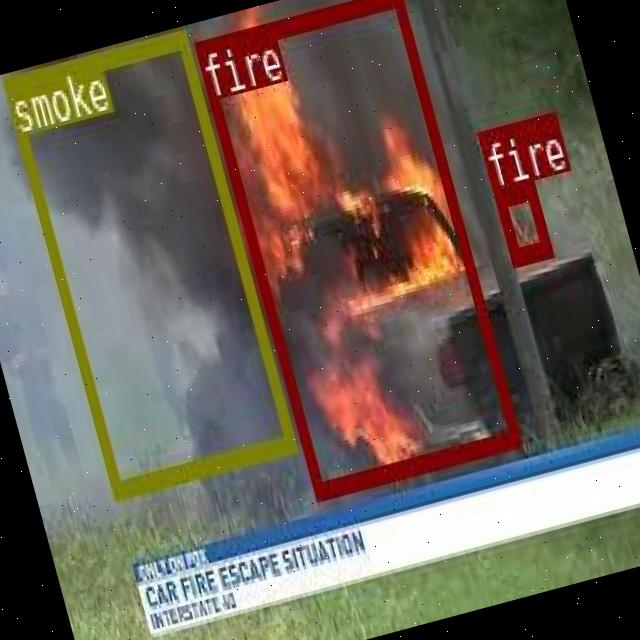fire: (191, 0, 518, 496), (492, 178, 550, 264)
smoke: (0, 29, 294, 496)
